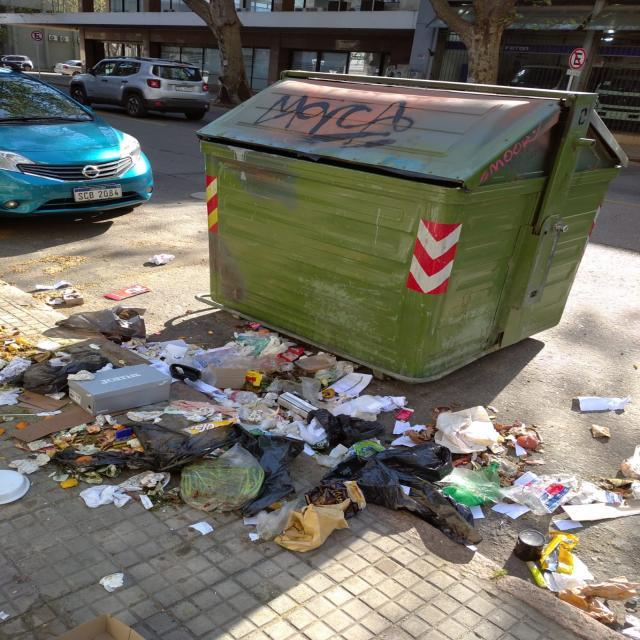garbage: (2, 274, 640, 567)
